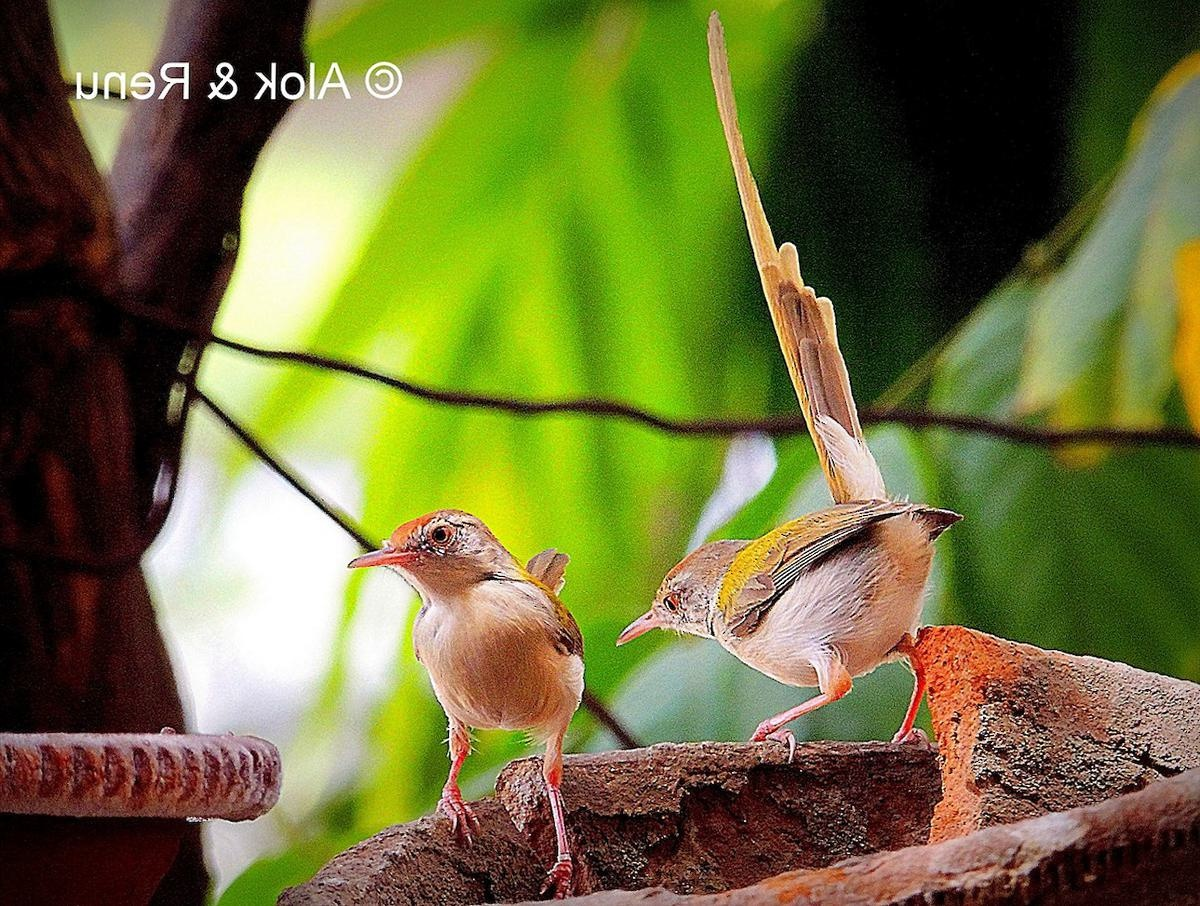tailorbird: (617, 40, 967, 745), (371, 486, 623, 857)
